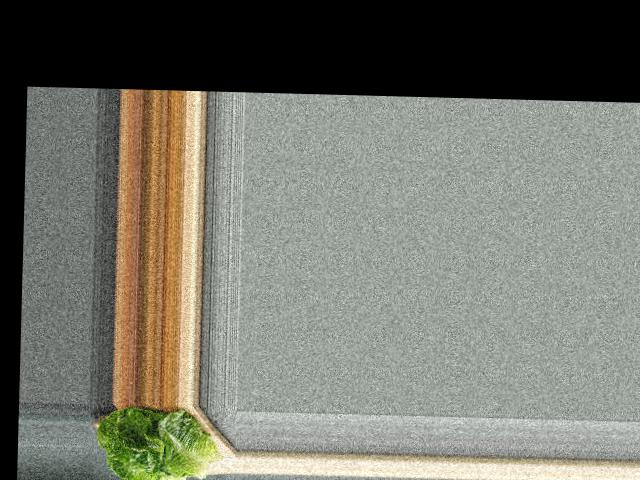lettuce: (92, 402, 219, 480)
